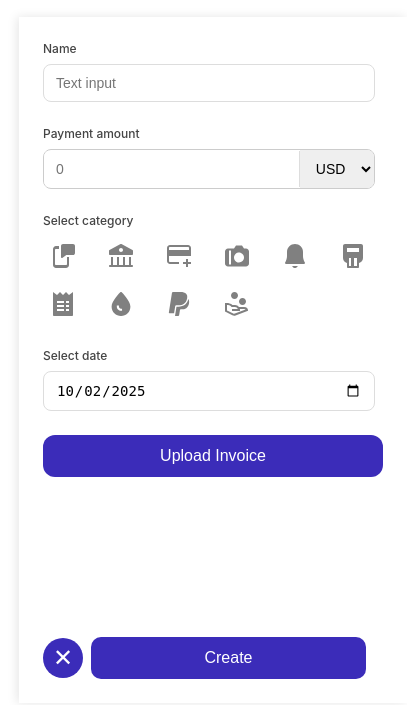
it: SideBar (minimal) › shows validation errors on empty submit
Click the button "Create" at (228, 658), box [91,637,366,679]
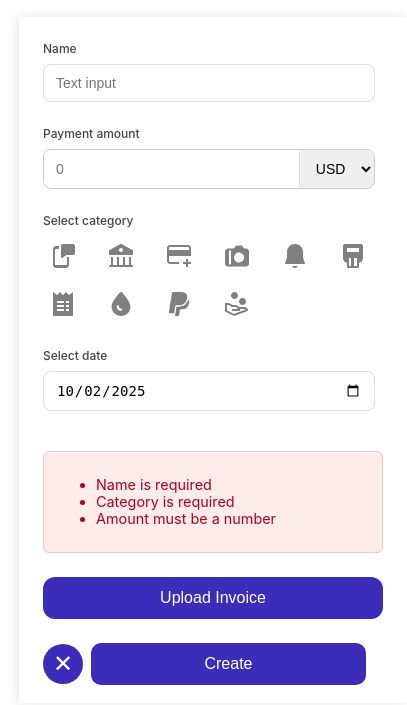
Check: the list item "Name is required" is shown, box [96,476,212,493]
Check: the list item "Category is required" is shown, box [96,493,235,510]
Check: the list item "Amount must be a number" is shown, box [96,510,276,527]
